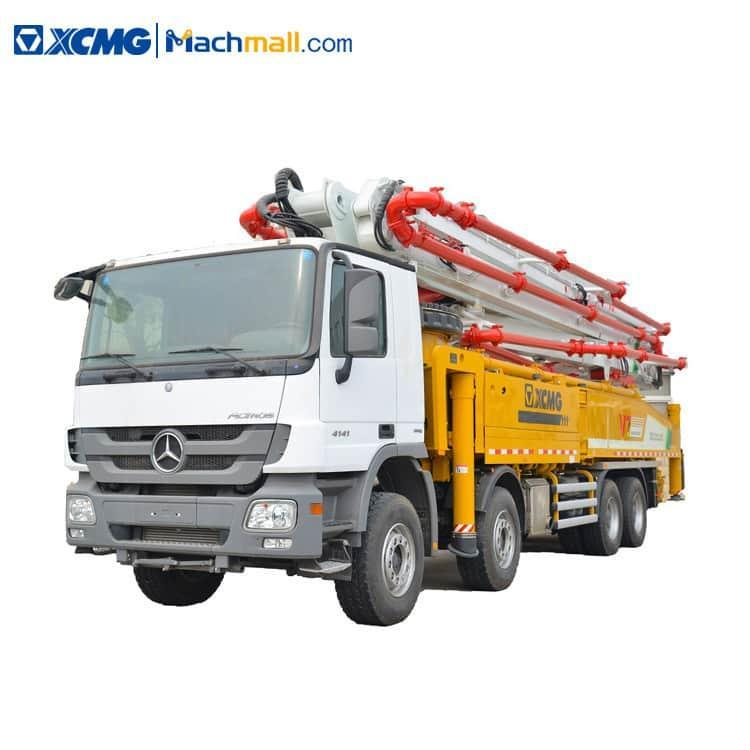truck: (52, 168, 686, 627)
